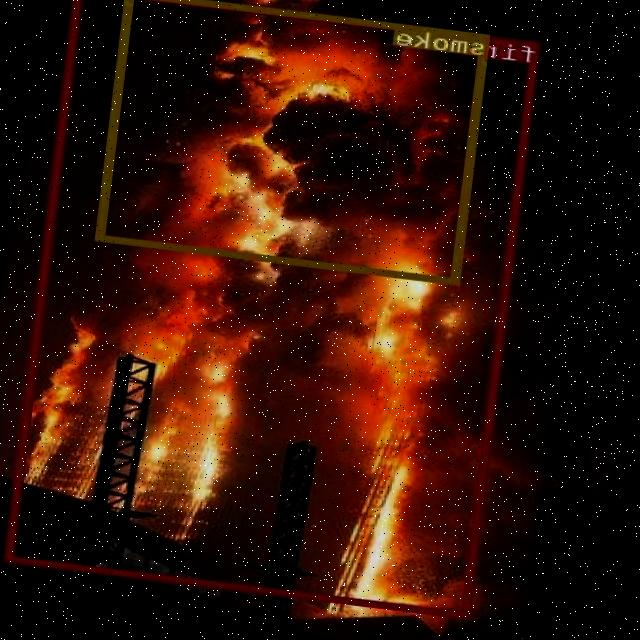fire: (6, 0, 541, 617)
smoke: (97, 0, 491, 283)
